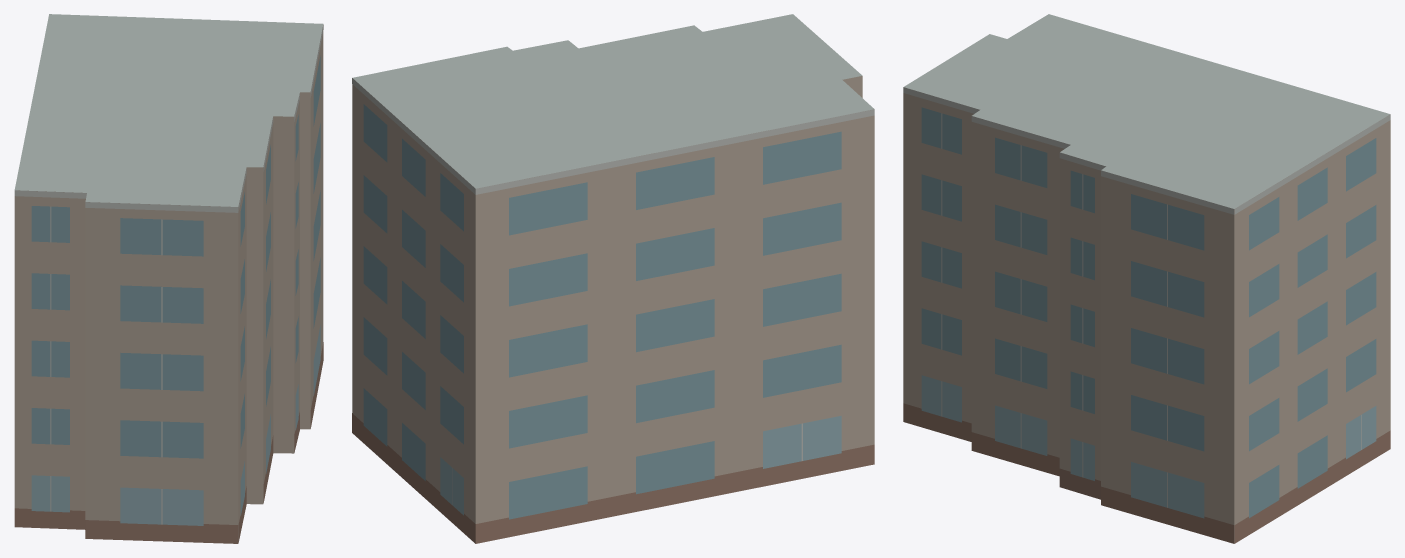
Rendered from survey-upis-32705529.glb.
The picture shows the model from 3 angles, left to right: view 1: azimuth 30°, elevation 25°; view 2: azimuth 150°, elevation 25°; view 3: azimuth 270°, elevation 25°; orthographic projection. The views are drawn at different scales.
Visible parts, largest first — view 1: survey-upis-32705529.tmp; view 2: survey-upis-32705529.tmp; view 3: survey-upis-32705529.tmp.
Boxes of the visible parts, x1,y1,x2,y2 form: survey-upis-32705529.tmp: (14,14,323,543); survey-upis-32705529.tmp: (352,14,874,543); survey-upis-32705529.tmp: (903,14,1390,543).
Size of the model in its own units: 17.5 by 14 by 18.47.
